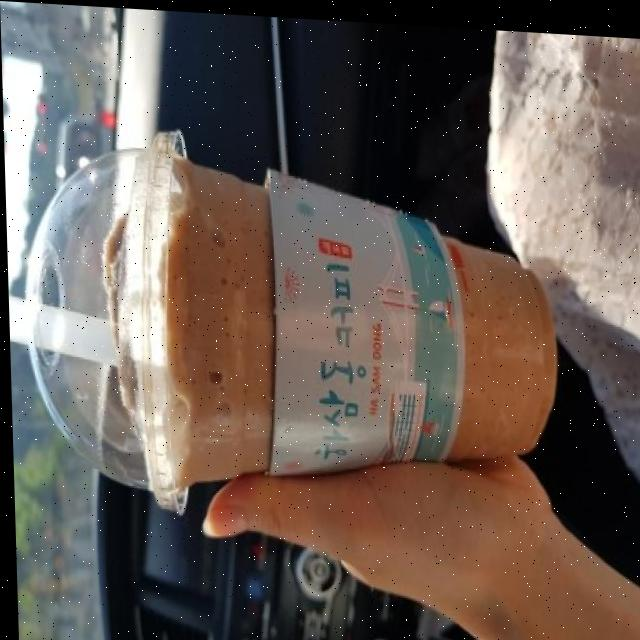cup: (3, 118, 572, 529)
